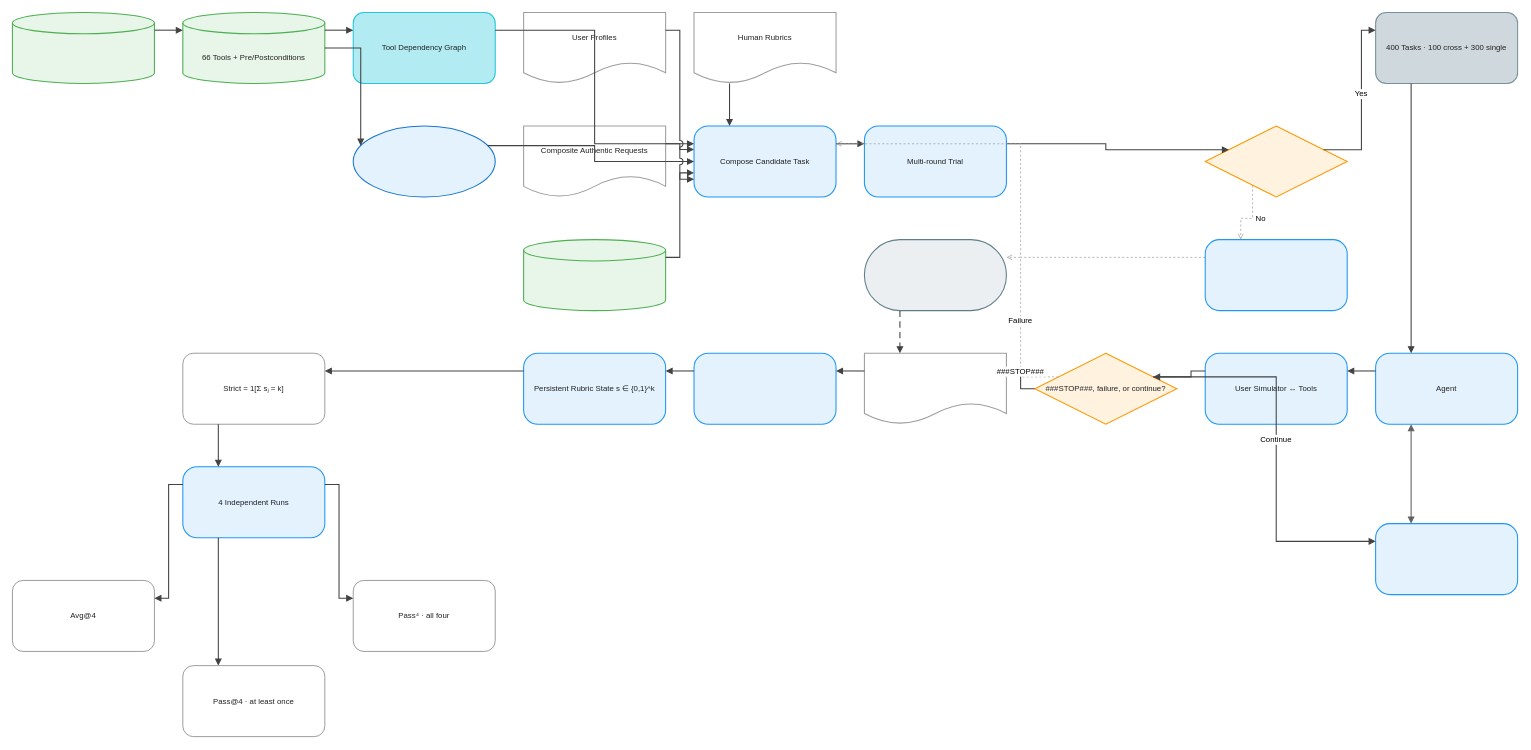
Image size: 1531x750. Some labels were removed from this diagram. Each missing label, with the centre of its shape:
"Completed Trajectory" belongs at point 935,388.
"Delivery · In-store · OTA" belongs at point 83,48.
"Failure Termination" belongs at point 935,275.
"Human accepts trial?" belongs at point 1275,161.
"Next Interaction Turn" belongs at point 1446,559.
"Overlapping Windows" belongs at point 764,388.
"Progressively Revealed User Needs" belongs at point 423,161.
"Real + Synthetic Environment Data" belongs at point 594,275.
"Revise Task / Rubric / Data" belongs at point 1275,275.
